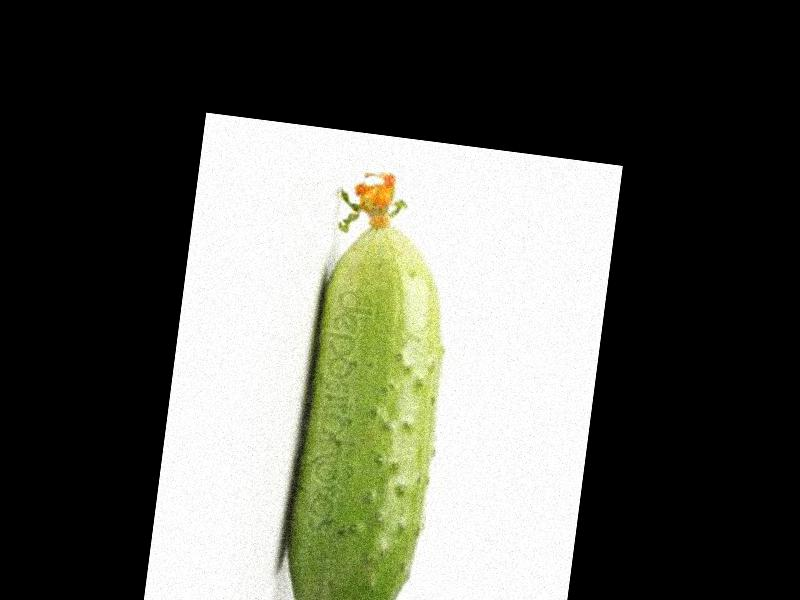Cucumber: (271, 168, 466, 600)
